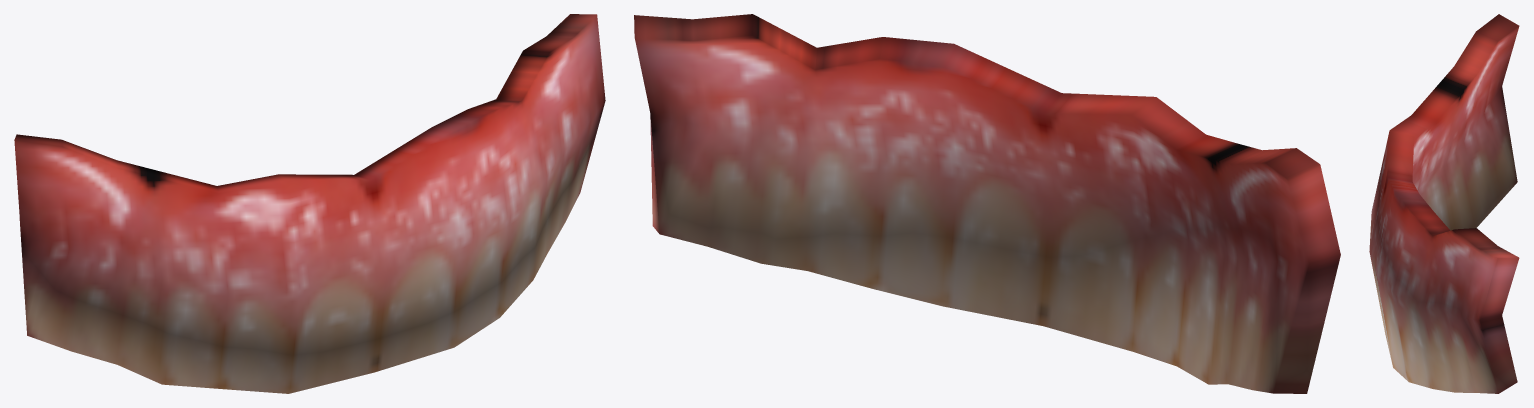
The model's file is ripped_dentures.FBX.
The picture shows the model from 3 angles, left to right: view 1: azimuth 30°, elevation 25°; view 2: azimuth 150°, elevation 25°; view 3: azimuth 270°, elevation 25°; orthographic projection. The views are drawn at different scales.
Visible parts, largest first — view 1: ripped_dentures; view 2: ripped_dentures; view 3: ripped_dentures.
Boxes of the visible parts, x1,y1,x2,y2 form: ripped_dentures: [14, 14, 605, 393]; ripped_dentures: [634, 14, 1340, 393]; ripped_dentures: [1369, 14, 1519, 393].
Bounding box in the file's own units: 7.62 × 3.15 × 2.07.
